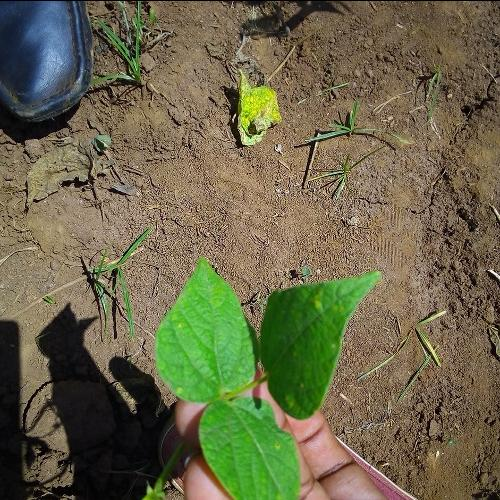sehat: (208, 410, 282, 486), (268, 300, 320, 389), (180, 308, 238, 383)
